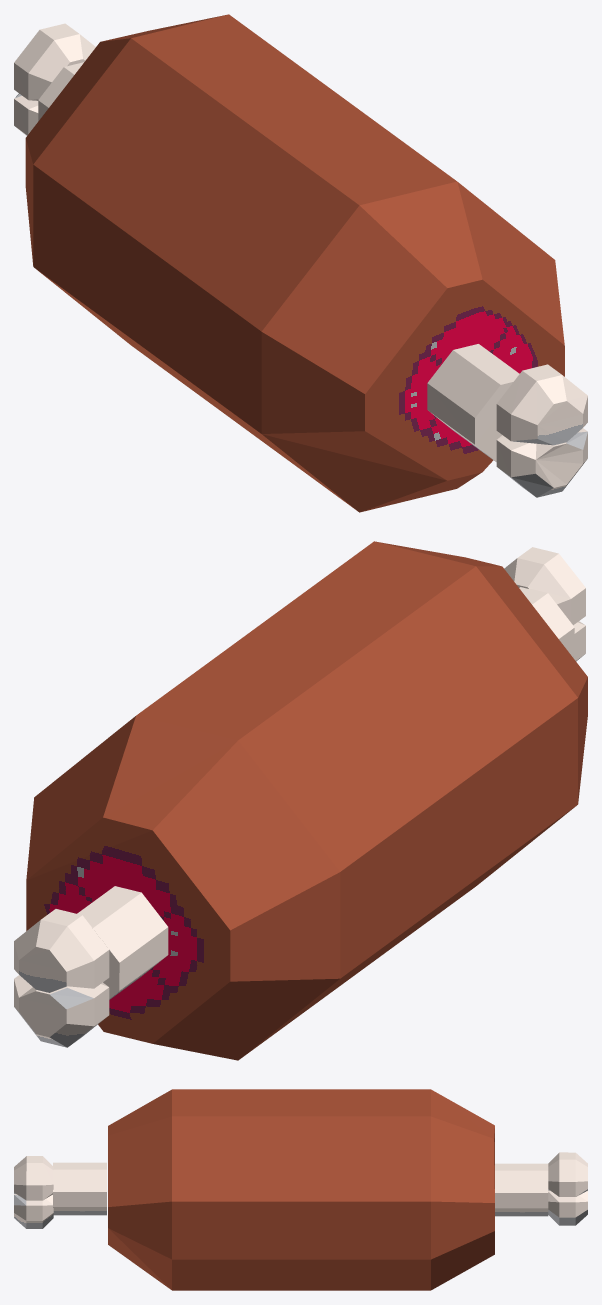
The picture shows the model from 3 angles, top to bottom: view 1: azimuth 30°, elevation 25°; view 2: azimuth 150°, elevation 25°; view 3: azimuth 270°, elevation 25°; orthographic projection. The views are drawn at different scales.
Parts seen in each view (by area): view 1: picocad; view 2: picocad; view 3: picocad.
Boxes of the visible parts, x1,y1,x2,y2 form: picocad: (14,14,587,512); picocad: (14,541,587,1060); picocad: (14,1089,587,1290).
Bounding box in the file's own units: 2.34 × 2.34 × 7.
Materials: 1 (1 with a texture image).
